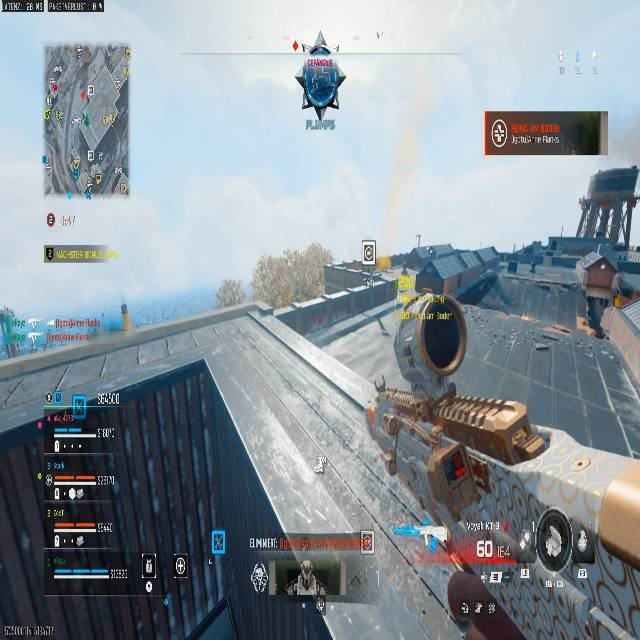player: (294, 32, 346, 122)
